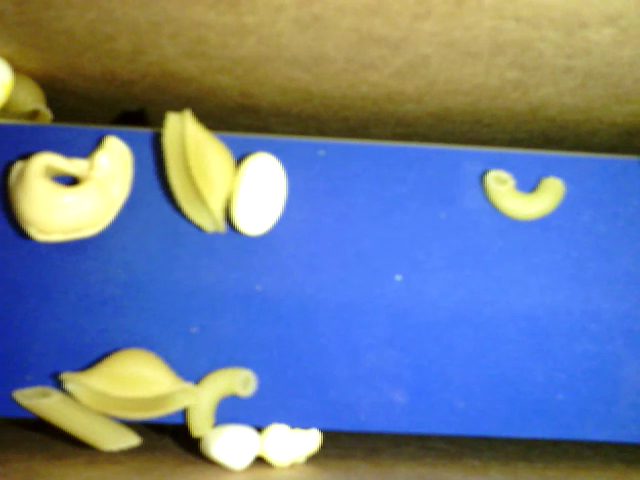elbow: (483, 164, 569, 226), (183, 364, 255, 438)
penne: (14, 384, 145, 451)
shell: (58, 344, 206, 422), (162, 110, 237, 236), (1, 69, 58, 121)
tortellini: (11, 127, 132, 245)
